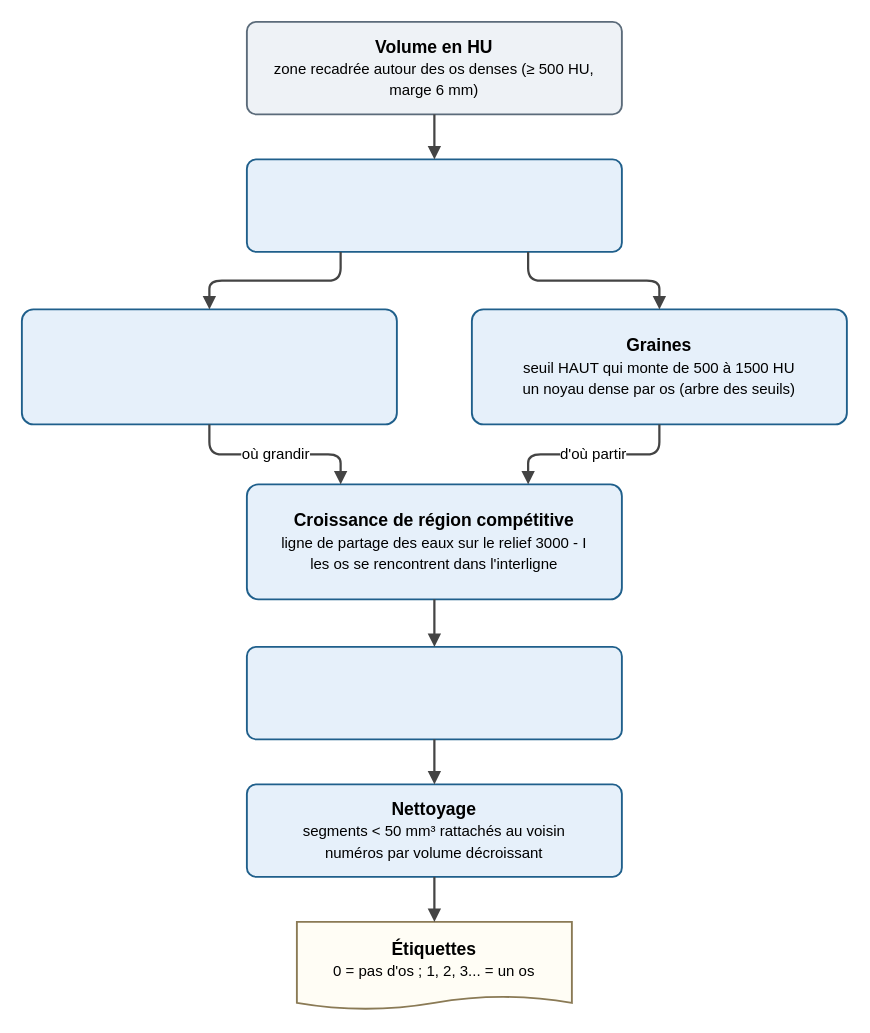
Image size: 870x1033. Some labels were removed from this diagram. The centre of each missing label's shape, as x and y in pixels:
Lissage gaussien σ = 0,35 mm : le bruit est divisé par deux: [433,205]
Masque osseux seuil BAS : I ≥ 226 HU l'os entier, mais les os se touchent: [208,366]
Recollage deux morceaux d'un même os : c* ≥ 3: [433,692]
